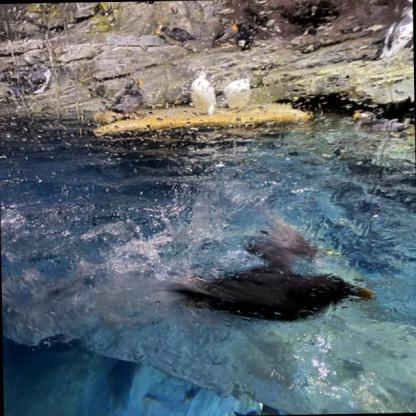puffin: (164, 214, 376, 326), (372, 0, 413, 62), (102, 77, 150, 121), (350, 108, 412, 138), (185, 68, 219, 118), (13, 60, 56, 96), (217, 18, 256, 54), (221, 75, 252, 113), (154, 23, 196, 49)
